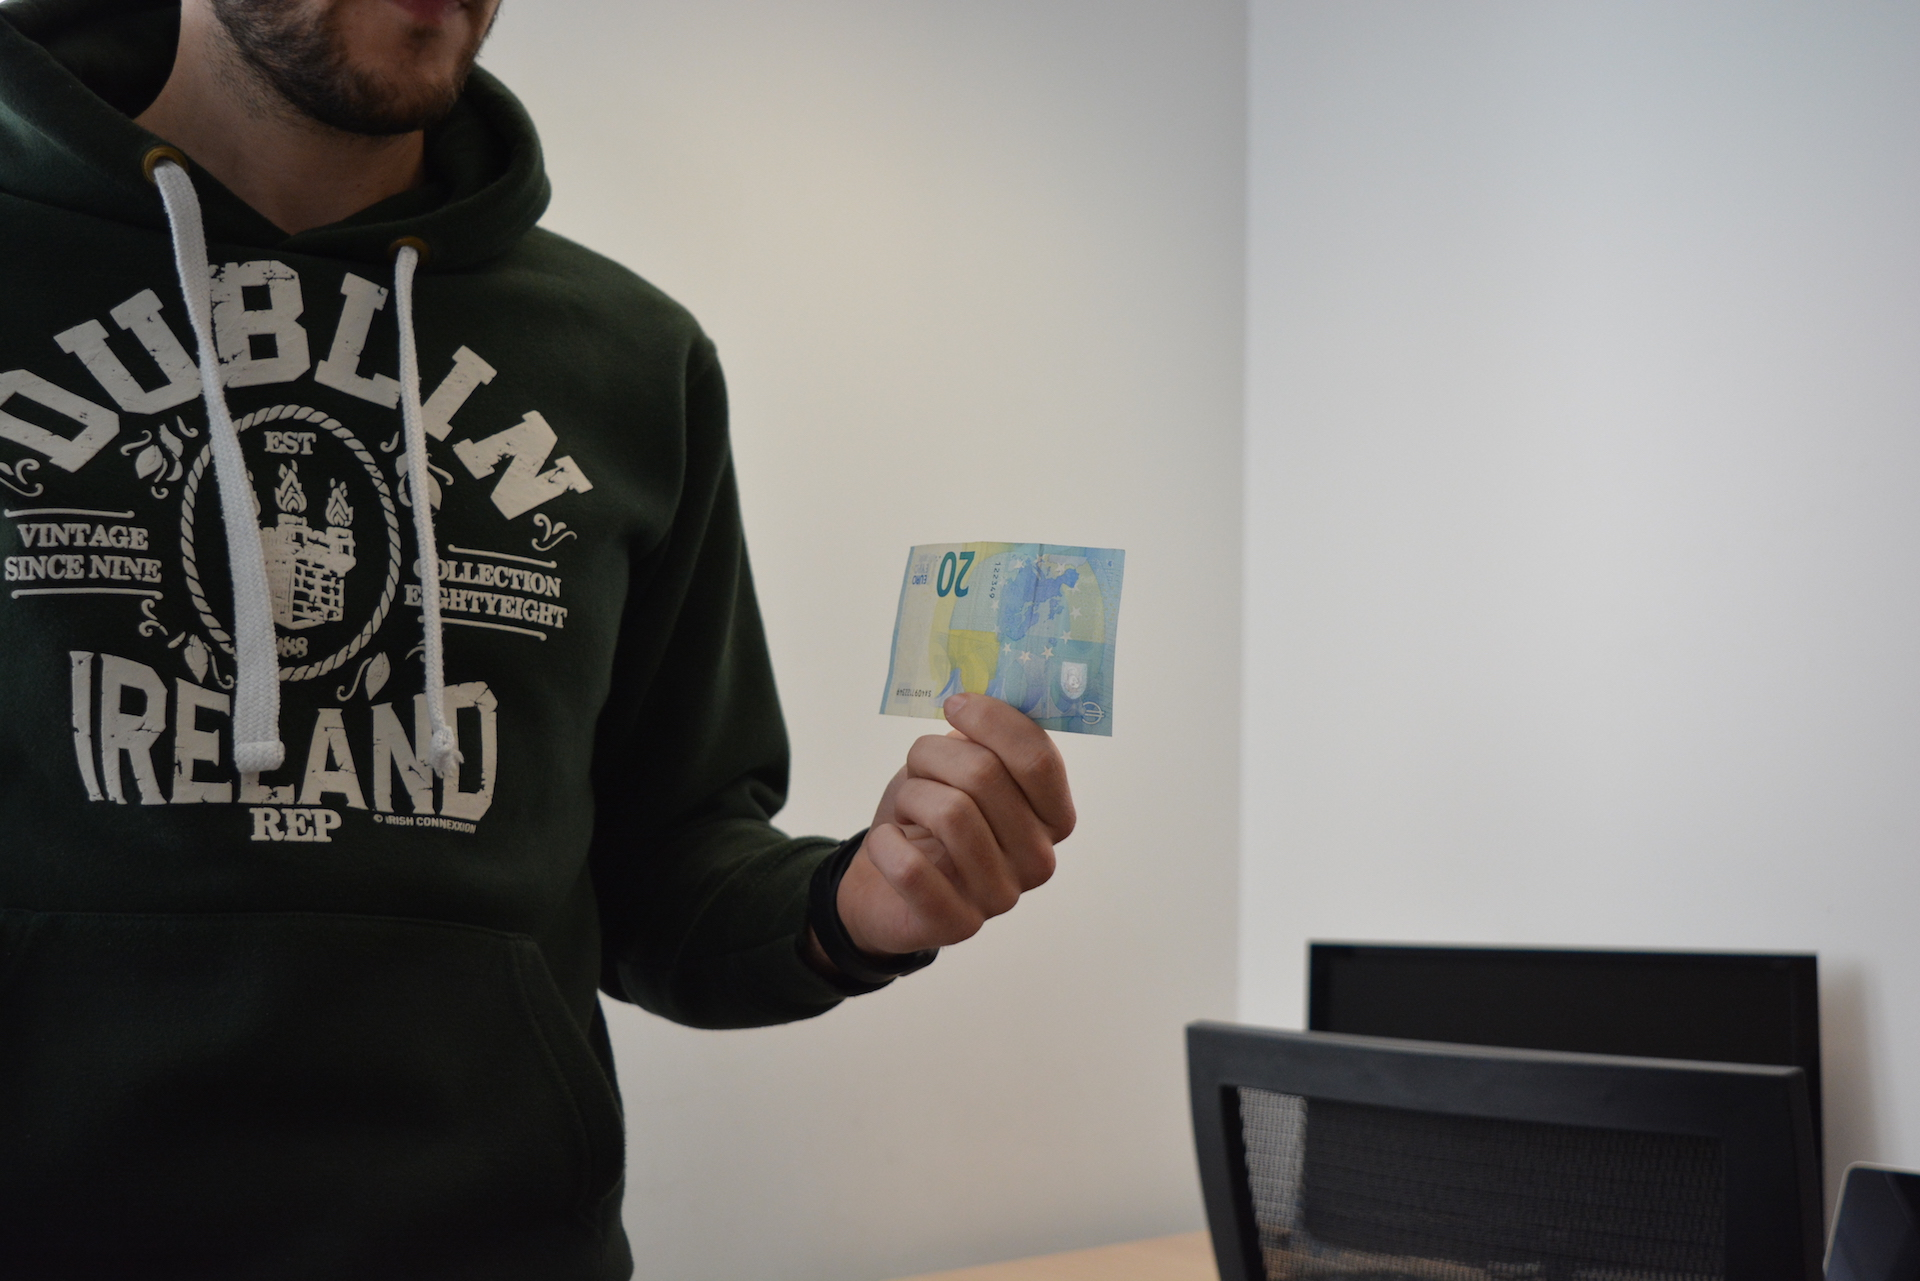billete: (876, 540, 1127, 739)
